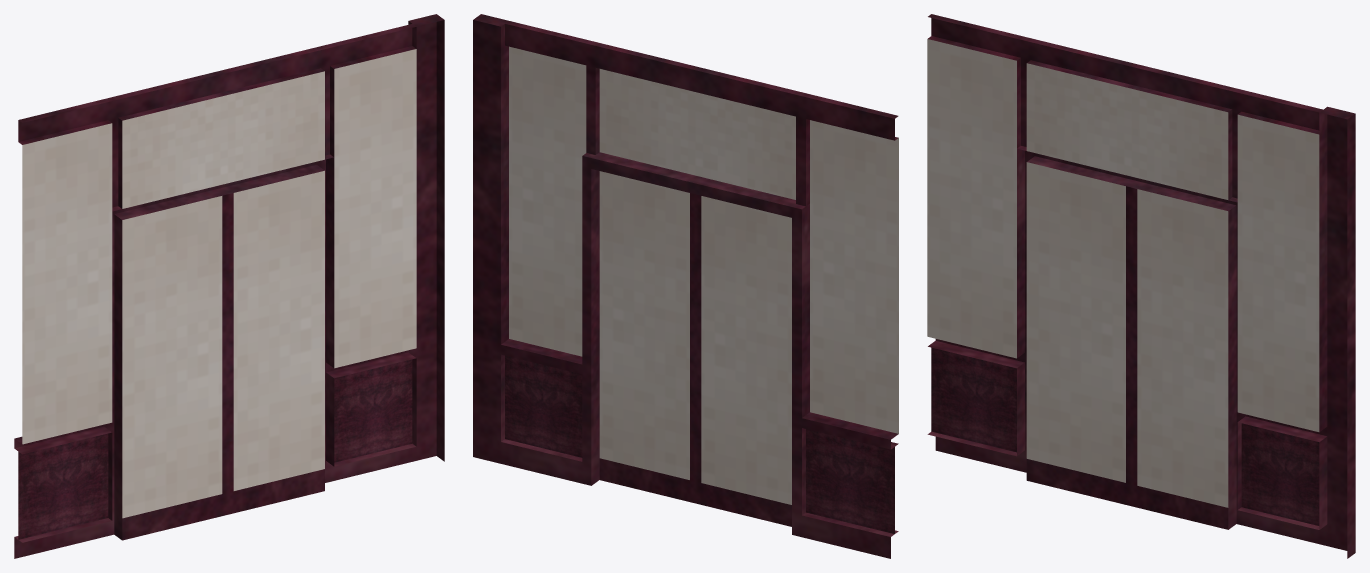
The model's file is NNJ0510075.fbx.
3 views of the same model, side by side, from view 1: azimuth 30°, elevation 25°; view 2: azimuth 150°, elevation 25°; view 3: azimuth 330°, elevation 25° (orthographic).
Parts seen in each view (by area): view 1: smNNJ0510075; view 2: smNNJ0510075; view 3: smNNJ0510075.
Boxes of the visible parts, bbox=[...] form: smNNJ0510075: bbox=[14, 14, 444, 558]; smNNJ0510075: bbox=[473, 14, 898, 558]; smNNJ0510075: bbox=[927, 14, 1355, 558].
Size of the model in its own units: 276 by 276 by 9.21.
Materials: 1 (1 with a texture image).
